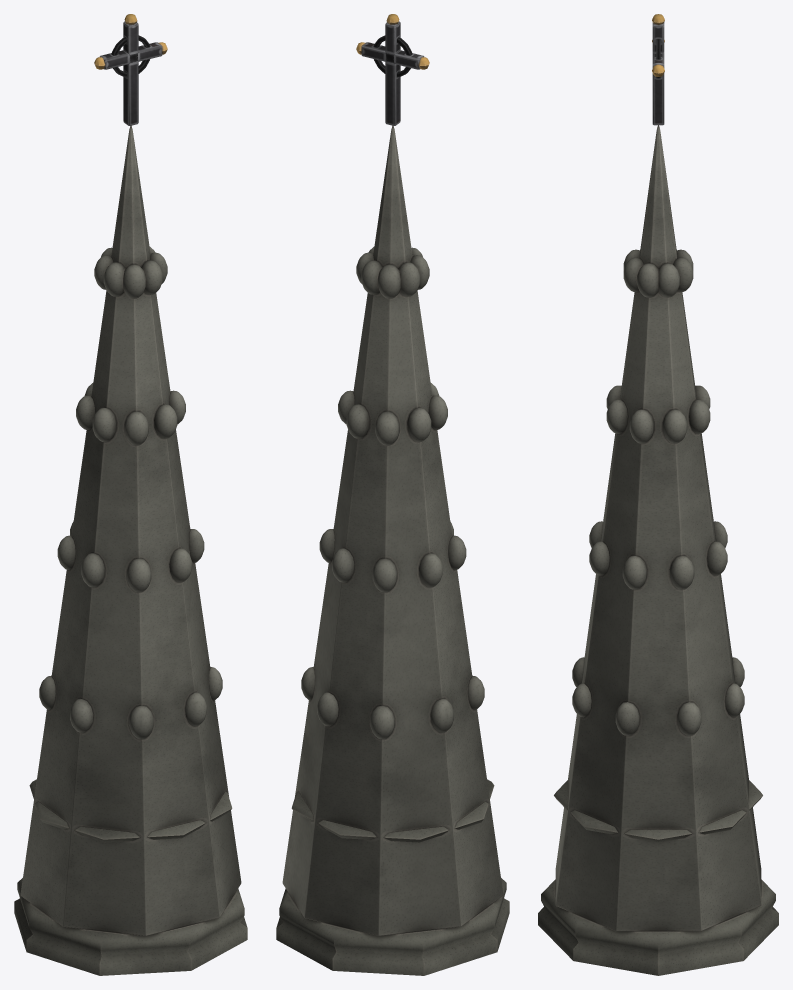
The model's file is SpireCross.fbx.
3 renders of one model, left to right at view 1: azimuth 30°, elevation 25°; view 2: azimuth 150°, elevation 25°; view 3: azimuth 270°, elevation 25°, orthographic.
Parts seen in each view (by area): view 1: SpireCross; view 2: SpireCross; view 3: SpireCross.
Part boxes in pixels (x1=…): SpireCross: x1=14, y1=14, x2=247, y2=975; SpireCross: x1=276, y1=14, x2=509, y2=975; SpireCross: x1=538, y1=14, x2=778, y2=975.
Size of the model in its own units: 324 by 1352 by 324.
